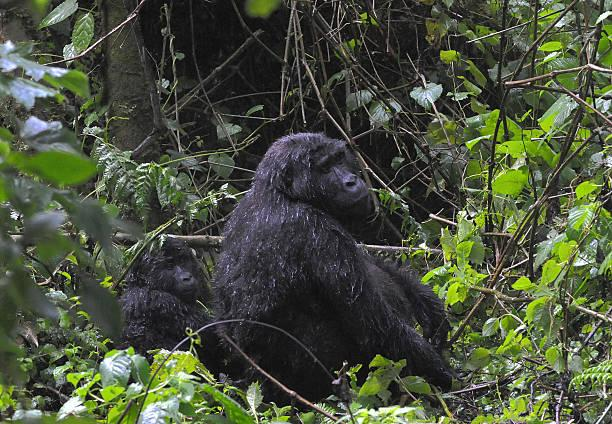goriile_montagne: (216, 121, 469, 379), (114, 199, 234, 374)
